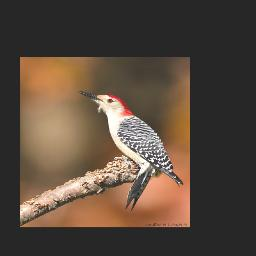Woodpecker: (78, 90, 185, 213)
